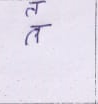au_matra: (20, 0, 47, 44)
